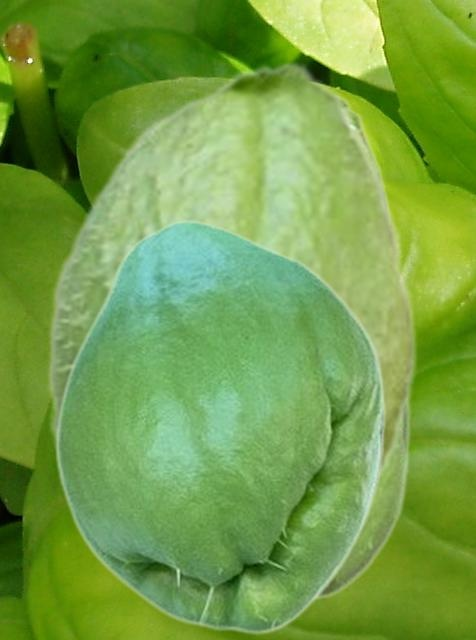sayote: (46, 59, 419, 481), (54, 220, 385, 635), (315, 93, 412, 603)
